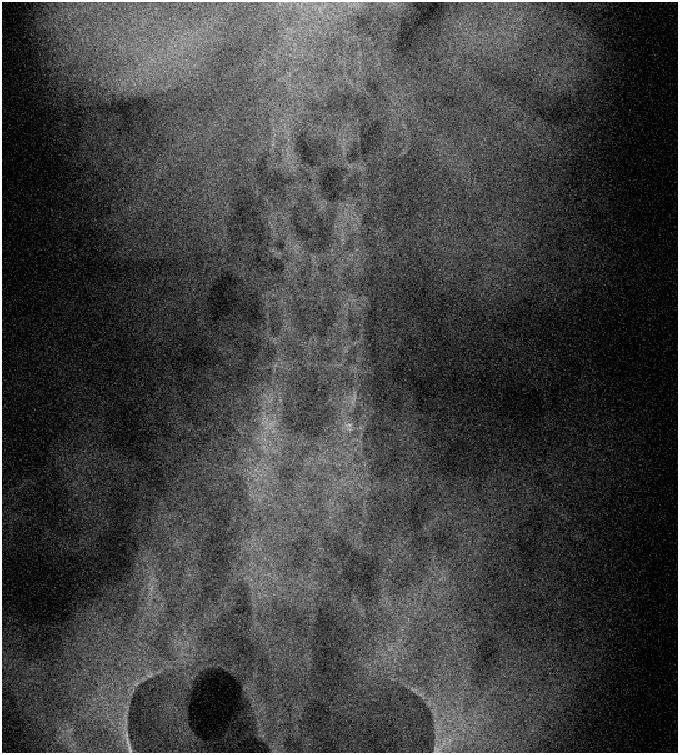lumbar scoliosis: (235, 138, 379, 528)
